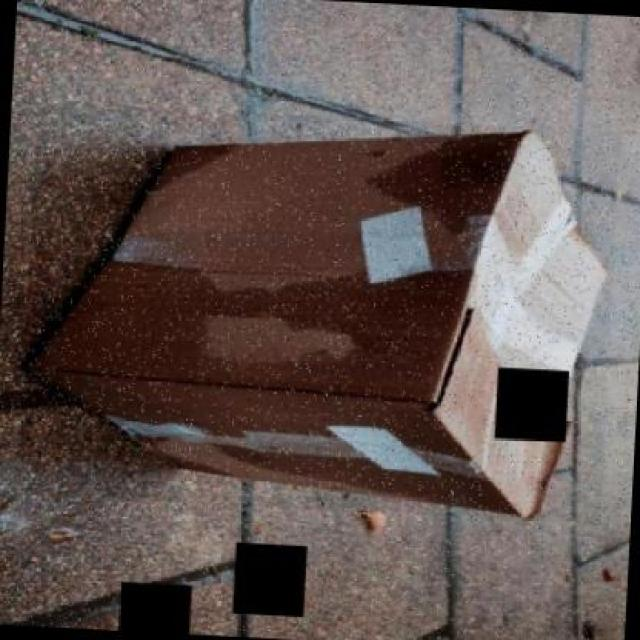box: (18, 100, 620, 523)
